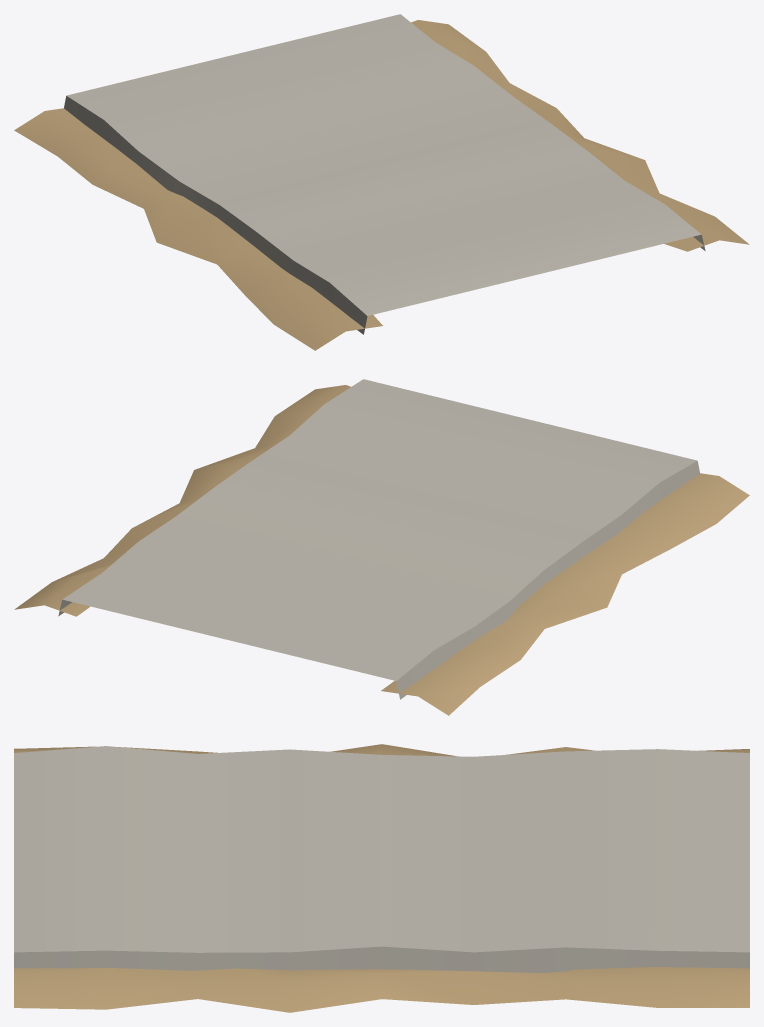
Rendered from Building_mode_L2_Road002.fbx.
The picture shows the model from 3 angles, top to bottom: view 1: azimuth 30°, elevation 25°; view 2: azimuth 150°, elevation 25°; view 3: azimuth 270°, elevation 25°; orthographic projection. The views are drawn at different scales.
Parts seen in each view (by area): view 1: Building_mode_L2_Road002; view 2: Building_mode_L2_Road002; view 3: Building_mode_L2_Road002.
Boxes of the visible parts, left/top/right/bottom form: Building_mode_L2_Road002: left=14, top=14, right=749, bottom=350; Building_mode_L2_Road002: left=14, top=379, right=749, bottom=715; Building_mode_L2_Road002: left=14, top=744, right=749, bottom=1012.
Size of the model in its own units: 2.59 by 0.1528 by 3.
